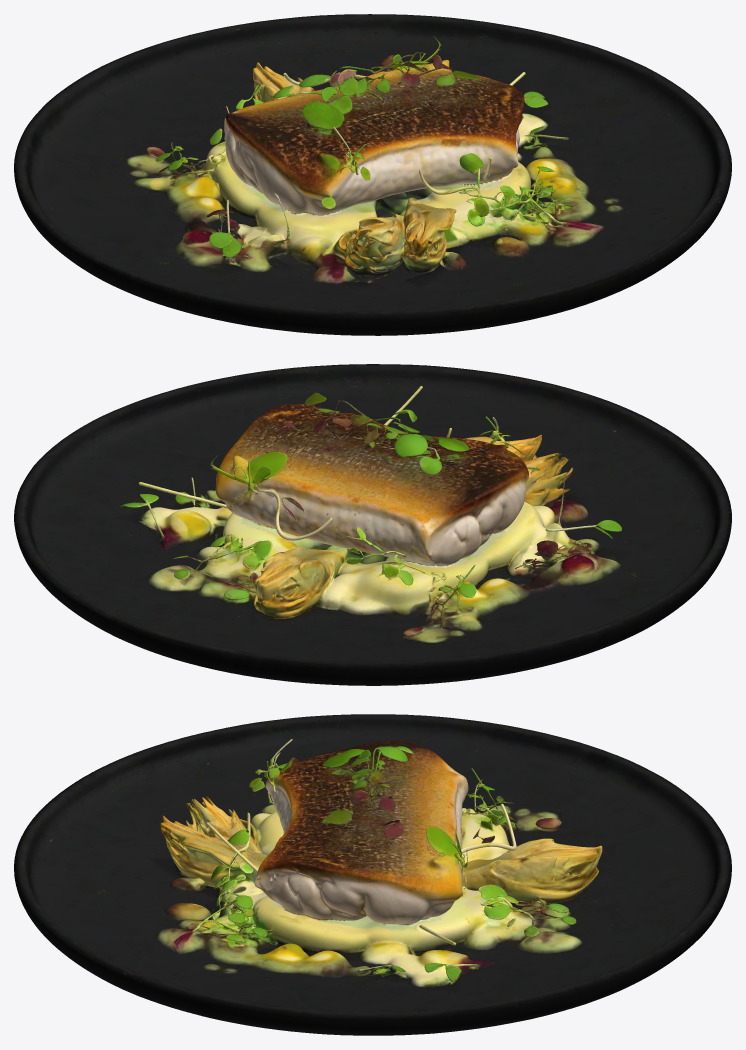
File: bar-de-ligne-meshy.glb
3 renders of one model, top to bottom at view 1: azimuth 30°, elevation 25°; view 2: azimuth 150°, elevation 25°; view 3: azimuth 270°, elevation 25°, orthographic.
Size of the model in its own units: 1.9 by 0.5059 by 1.9.
Materials: 1 (1 with a texture image).
